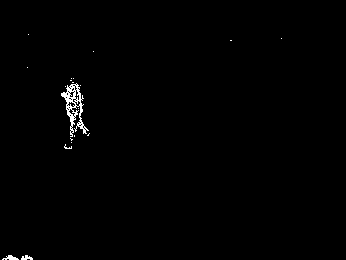person: (62, 82, 90, 148)
